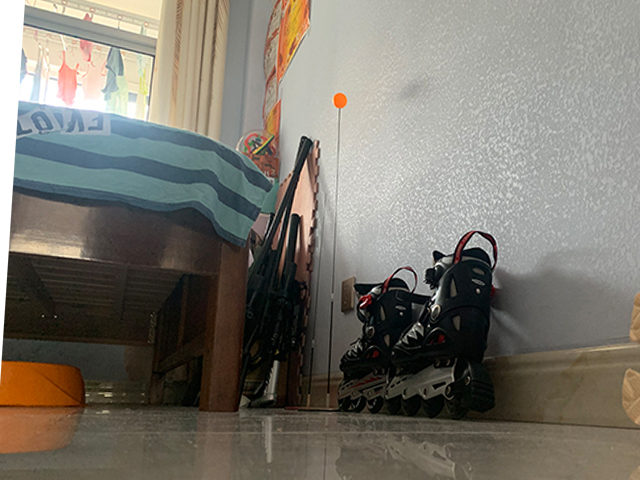bed: (11, 101, 277, 414)
